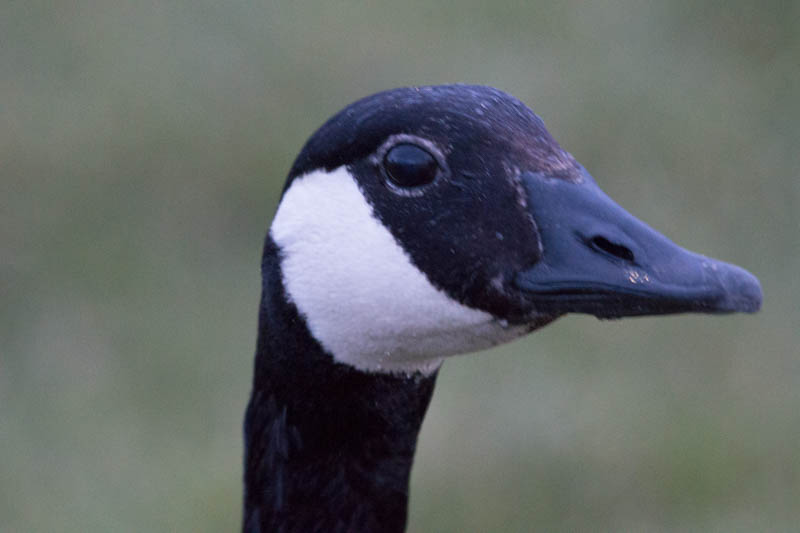goose-head: (262, 85, 764, 381)
